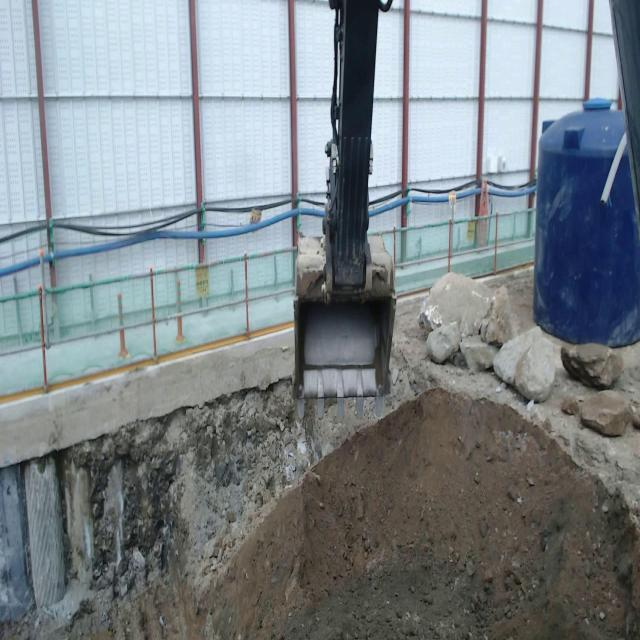red-sand: (203, 389, 640, 639)
stone: (419, 272, 491, 337), (493, 328, 555, 401), (561, 344, 623, 389), (580, 391, 633, 436), (480, 286, 516, 345), (426, 321, 461, 363), (460, 335, 498, 371)
white-sand: (18, 380, 313, 639)
